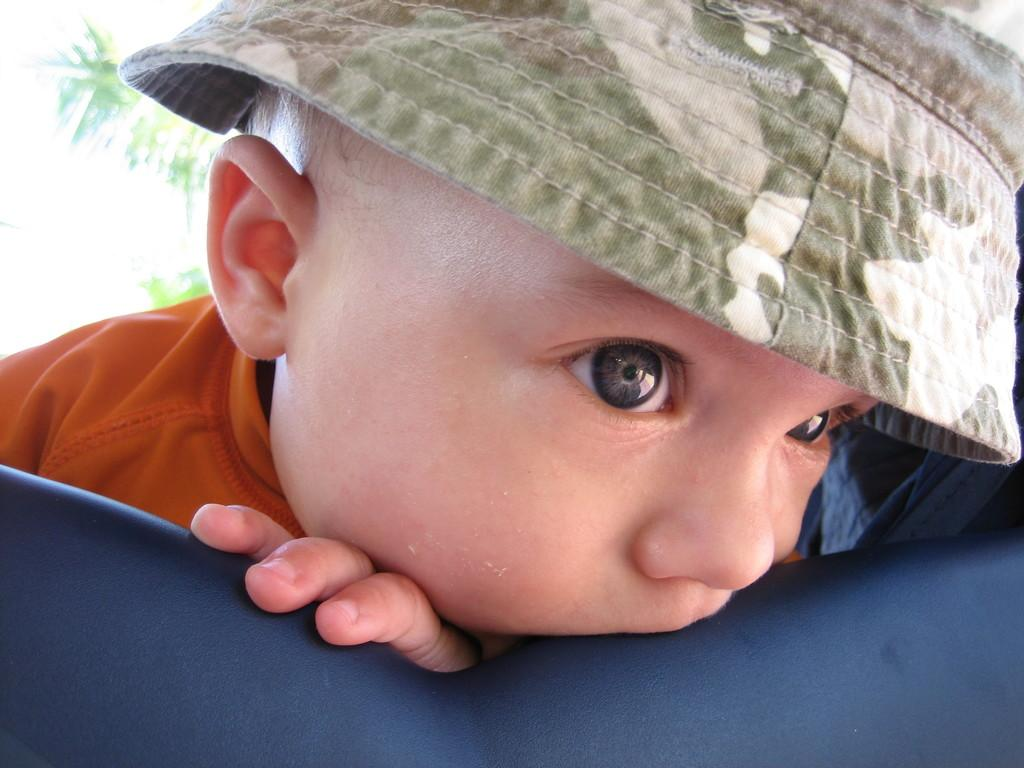Hat: (115, 0, 1023, 458)
